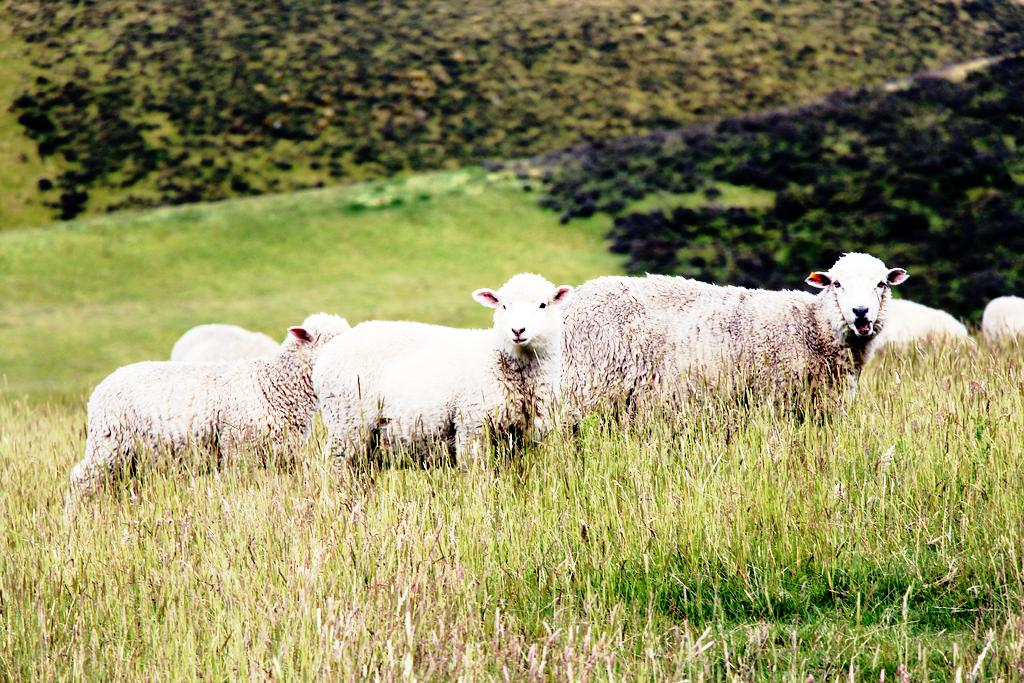Sheep: (561, 245, 937, 442), (67, 295, 351, 506), (310, 270, 579, 468), (154, 314, 307, 387), (840, 295, 981, 360), (975, 283, 1024, 354)
